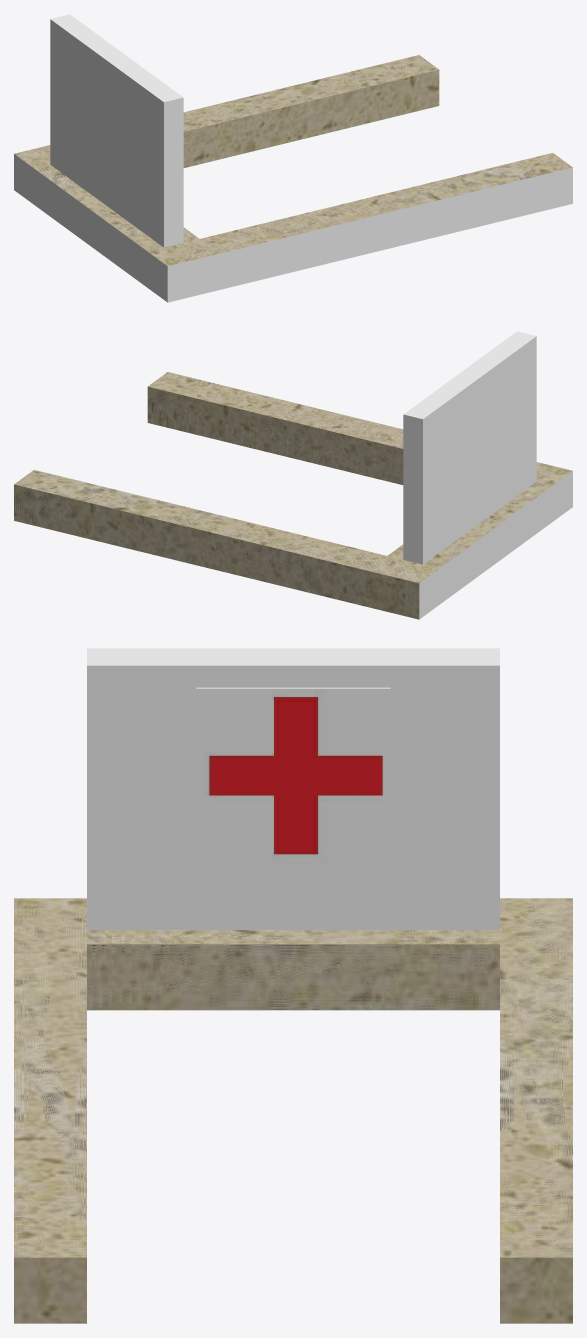
Rendered from dock_gate_red_cross.dae.
3 views of the same model, one above another, from view 1: azimuth 30°, elevation 25°; view 2: azimuth 150°, elevation 25°; view 3: azimuth 270°, elevation 25° (orthographic). The views are drawn at different scales.
Visible parts, largest first — view 1: Component_1 (×4); view 2: Component_1 (×3); view 3: Component_1 (×4).
Boxes of the visible parts, x1,y1,x2,y2 form: Component_1 (×4): [14, 14, 572, 302]; Component_1 (×3): [14, 331, 572, 619]; Component_1 (×4): [14, 648, 572, 1323].
Bounding box in the file's own units: 80.75 × 53.06 × 34.61.
4 materials, 3 textured.
